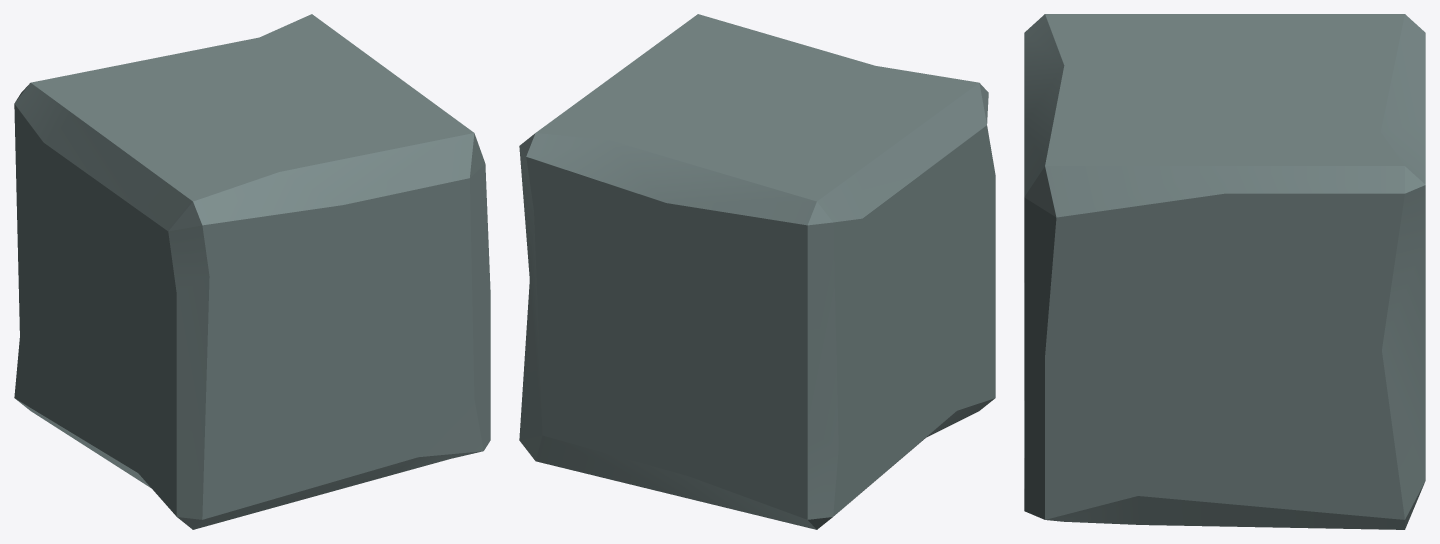
File: Scatter Rock.fbx
The picture shows the model from 3 angles, left to right: view 1: azimuth 30°, elevation 25°; view 2: azimuth 150°, elevation 25°; view 3: azimuth 270°, elevation 25°; orthographic projection. The views are drawn at different scales.
Parts seen in each view (by area): view 1: SM_Env_Rock_Square_Simple_01; view 2: SM_Env_Rock_Square_Simple_01; view 3: SM_Env_Rock_Square_Simple_01.
Part boxes in pixels (left/top/right/bottom): SM_Env_Rock_Square_Simple_01: left=14, top=14, right=490, bottom=529; SM_Env_Rock_Square_Simple_01: left=519, top=14, right=995, bottom=529; SM_Env_Rock_Square_Simple_01: left=1024, top=14, right=1425, bottom=529.
Bounding box in the file's own units: 40.36 × 40.36 × 40.36.
